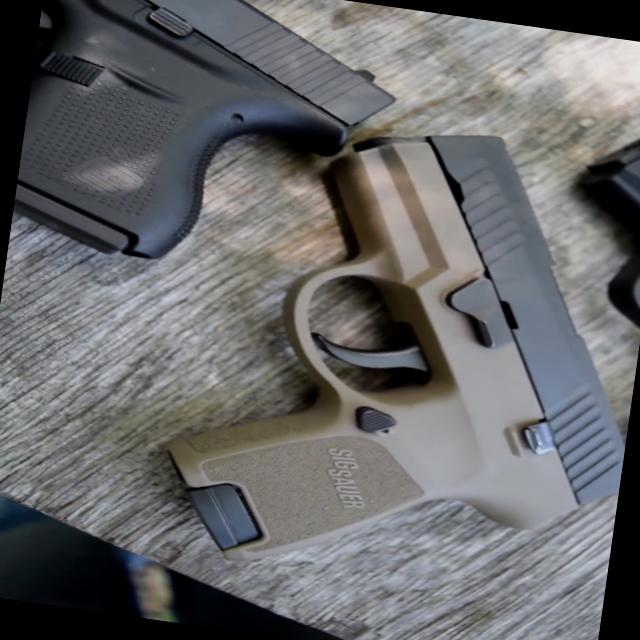handgun: (181, 85, 639, 618)
